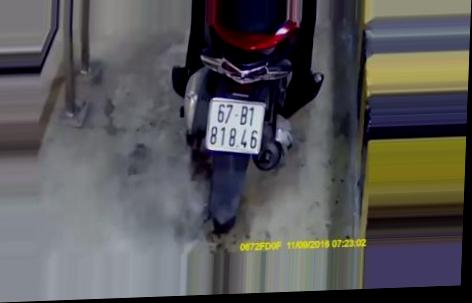License_Plate: (194, 95, 272, 161)
